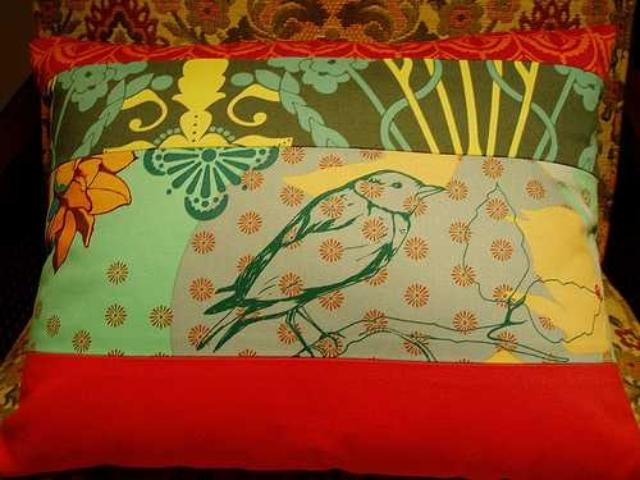pillow: (1, 23, 637, 478)
